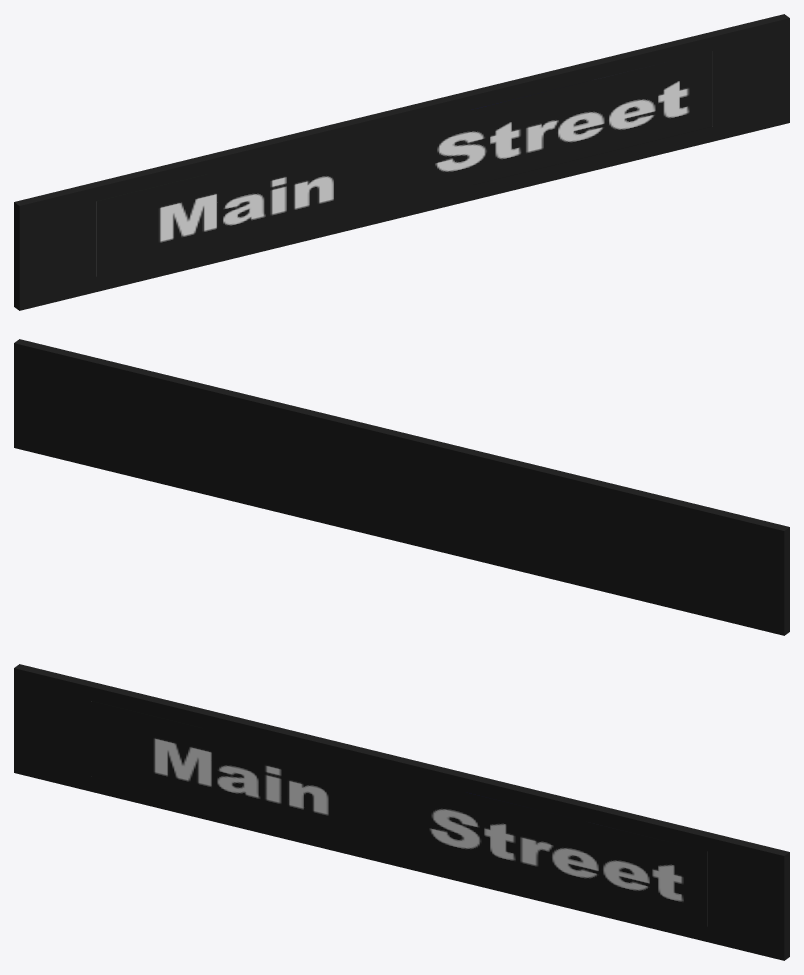
The model's file is SW_PROP_Sign_StationSign_01.fbx.
3 renders of one model, top to bottom at view 1: azimuth 30°, elevation 25°; view 2: azimuth 150°, elevation 25°; view 3: azimuth 330°, elevation 25°, orthographic.
Parts seen in each view (by area): view 1: SW_PROP_Sign_StationSign_01; view 2: SW_PROP_Sign_StationSign_01; view 3: SW_PROP_Sign_StationSign_01.
Boxes of the visible parts, <box> form: SW_PROP_Sign_StationSign_01: <box>14,14,789,310</box>; SW_PROP_Sign_StationSign_01: <box>14,339,789,635</box>; SW_PROP_Sign_StationSign_01: <box>14,664,789,960</box>.
Size of the model in its own units: 4 by 0.52 by 0.05.
